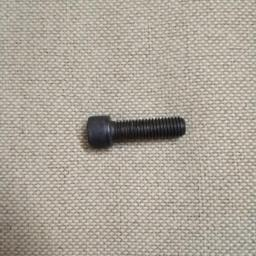screwtype1black: (85, 114, 189, 149)
